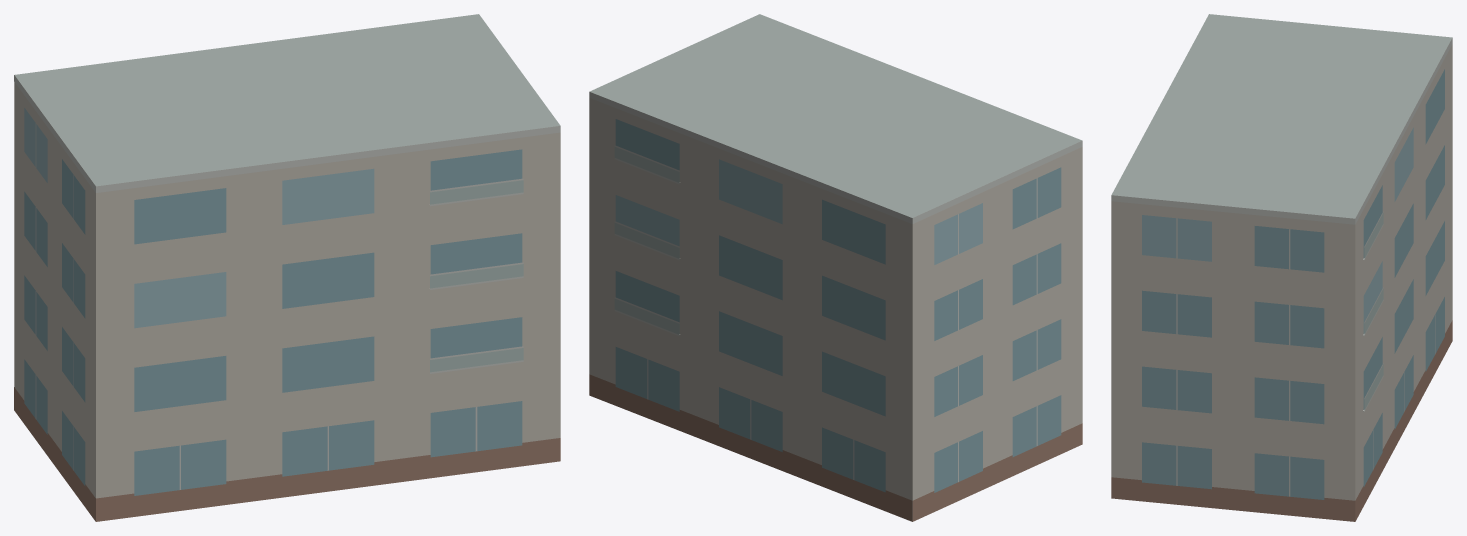
Rendered from residential-78235b34-524d-4345-a263-7712d6ada998.glb.
The picture shows the model from 3 angles, left to right: view 1: azimuth 30°, elevation 25°; view 2: azimuth 150°, elevation 25°; view 3: azimuth 270°, elevation 25°; orthographic projection. The views are drawn at different scales.
Parts seen in each view (by area): view 1: residential-78235b34-524d-4345-a263-7712d6ada998.tmp; view 2: residential-78235b34-524d-4345-a263-7712d6ada998.tmp; view 3: residential-78235b34-524d-4345-a263-7712d6ada998.tmp.
Boxes of the visible parts, x1,y1,x2,y2 form: residential-78235b34-524d-4345-a263-7712d6ada998.tmp: (14, 14, 560, 521); residential-78235b34-524d-4345-a263-7712d6ada998.tmp: (589, 14, 1082, 521); residential-78235b34-524d-4345-a263-7712d6ada998.tmp: (1111, 14, 1452, 521).
Size of the model in its own units: 17.67 by 12.2 by 12.46.
